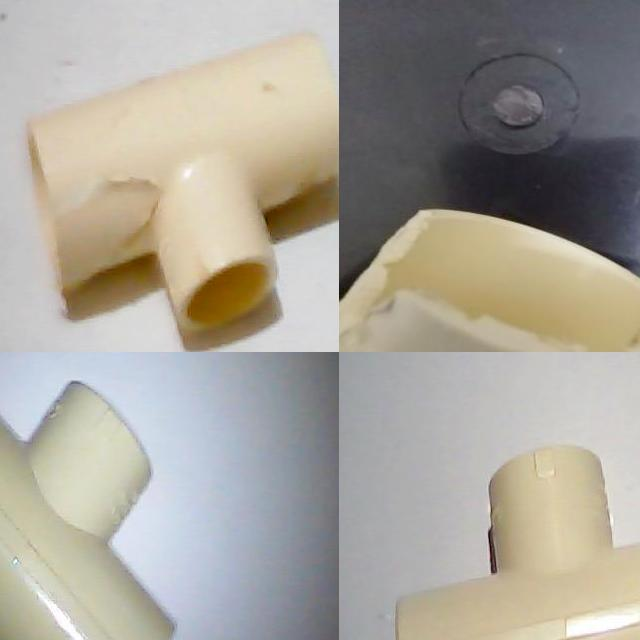Defective: (63, 160, 166, 268), (370, 244, 441, 352), (385, 224, 472, 264), (624, 289, 640, 351)
T Joint: (28, 33, 339, 323), (395, 444, 640, 640), (0, 382, 177, 640)
